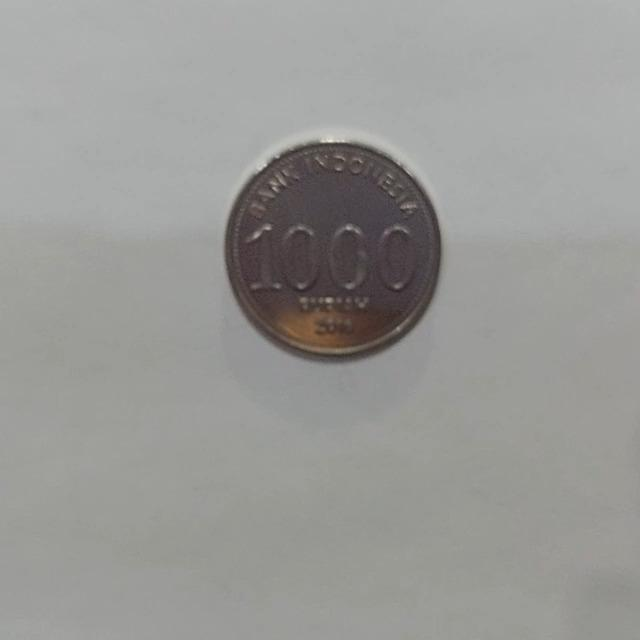Rp100: (221, 134, 443, 360)
